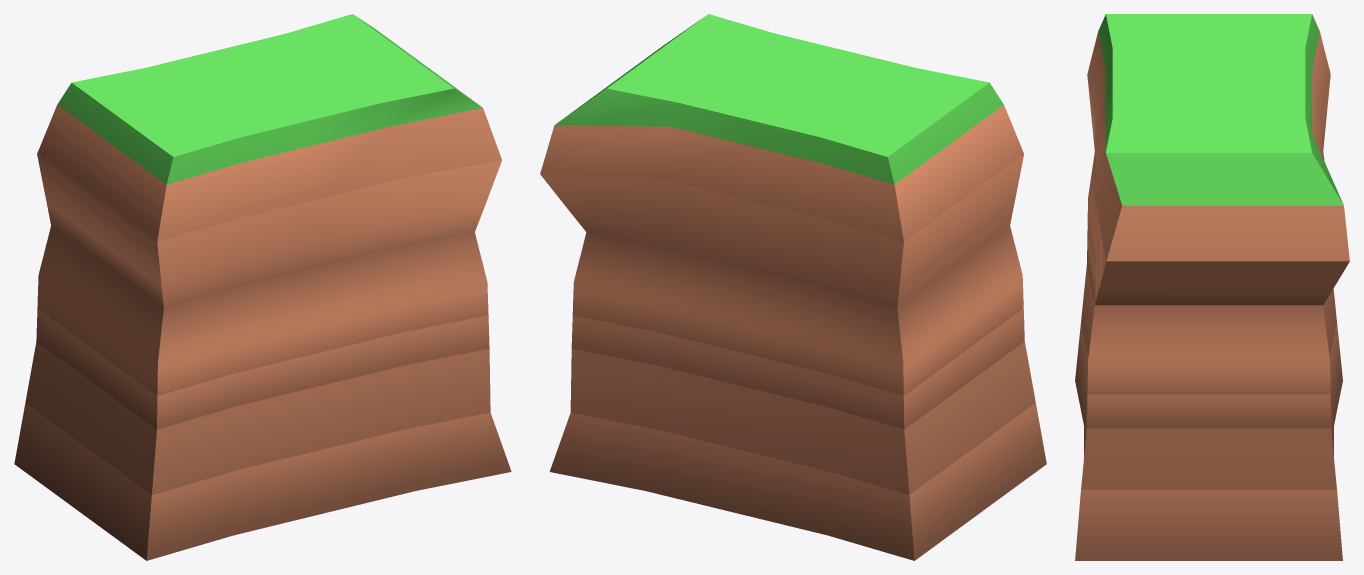
The model's file is StoneWall006.fbx.
The picture shows the model from 3 angles, left to right: view 1: azimuth 30°, elevation 25°; view 2: azimuth 150°, elevation 25°; view 3: azimuth 270°, elevation 25°; orthographic projection.
Parts seen in each view (by area): view 1: StoneWall006; view 2: StoneWall006; view 3: StoneWall006.
Part boxes in pixels (left/top/right/bottom): StoneWall006: left=14, top=14, right=511, bottom=560; StoneWall006: left=540, top=14, right=1046, bottom=560; StoneWall006: left=1075, top=14, right=1349, bottom=560.
Bounding box in the file's own units: 456 × 449 × 289.
